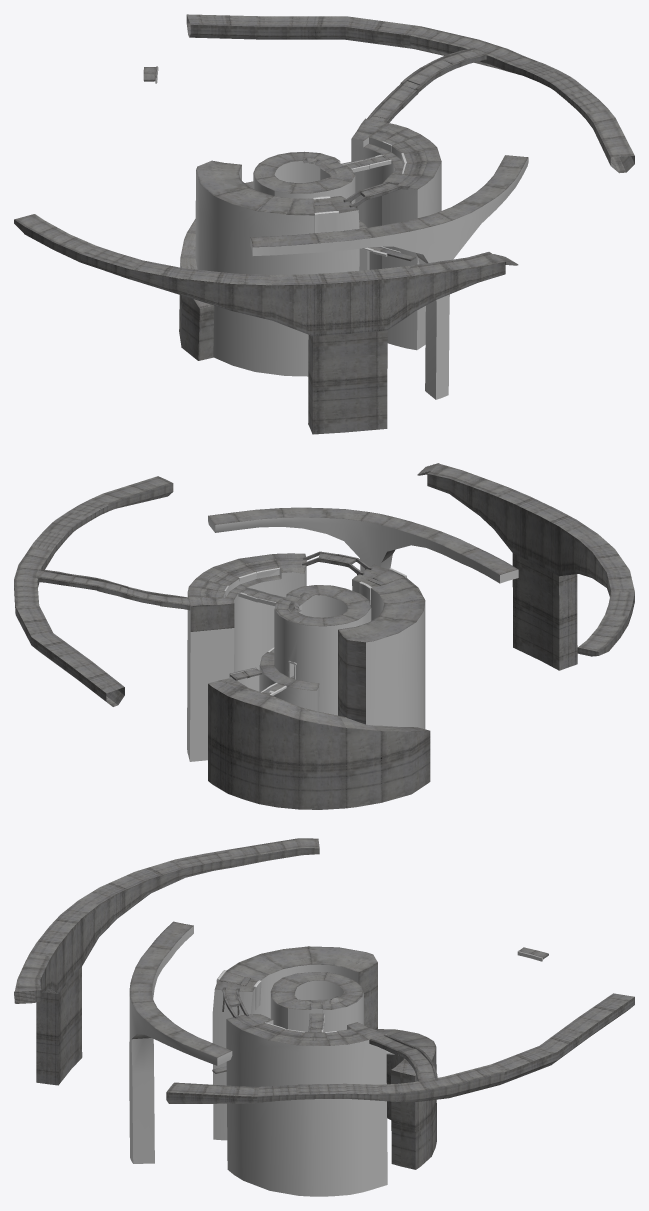
3 views of the same model, one above another, from view 1: azimuth 30°, elevation 25°; view 2: azimuth 150°, elevation 25°; view 3: azimuth 270°, elevation 25° (orthographic). The views are drawn at different scales.
Parts seen in each view (by area): view 1: Cube; view 2: Cube; view 3: Cube.
Boxes of the visible parts, left/top/right/bottom form: Cube: left=14, top=14, right=634, bottom=434; Cube: left=14, top=463, right=634, bottom=809; Cube: left=14, top=838, right=634, bottom=1196.
Bounding box in the file's own units: 18678 × 5947 × 19112.
